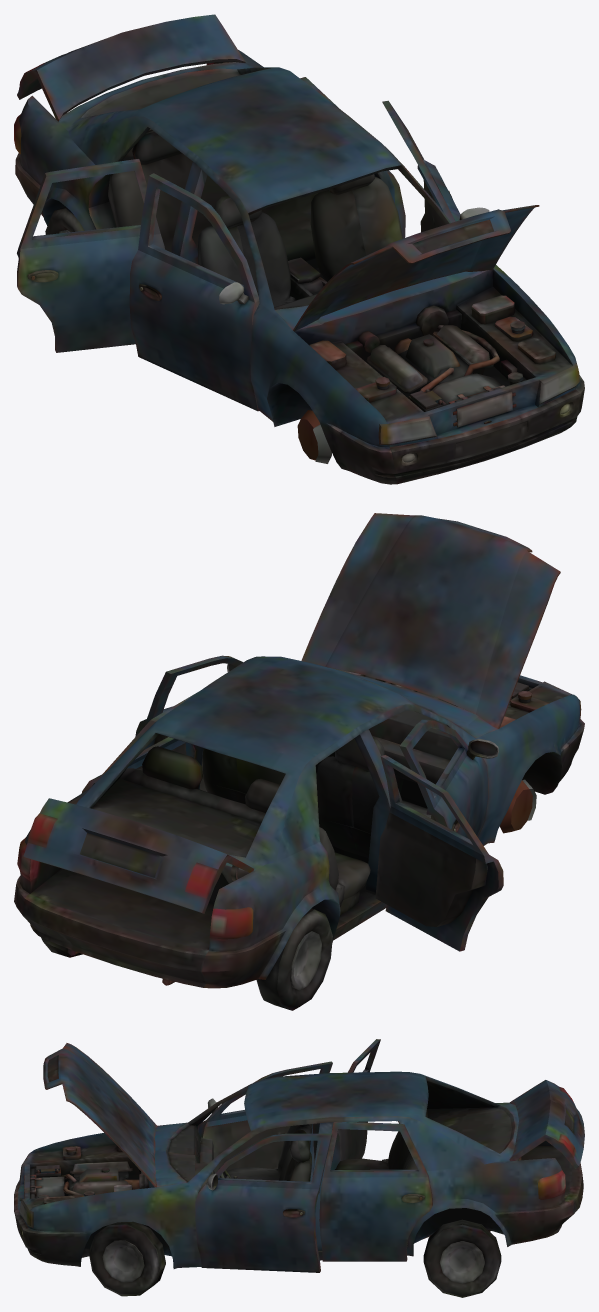
The model's file is car_sedan.glb.
3 views of the same model, one above another, from view 1: azimuth 30°, elevation 25°; view 2: azimuth 150°, elevation 25°; view 3: azimuth 270°, elevation 25° (orthographic). The views are drawn at different scales.
Visible parts, largest first — view 1: KUZA_0, Seats.001_6, ON QAPI_2, ARXA QAPI_3, Engine.001_8, BAQAJ_4, KAPOT_1, ON QAPI.001_12, SALON_5, TEKER.002_15, TEKER.003_11; view 2: KUZA_0, KAPOT_1, Seats.001_6, ARXA QAPI_3, BAQAJ_4, ON QAPI_2, TEKER.003_11, SALON_5, ON QAPI.001_12, TEKER.002_15, ARXA QAPI.001_13, Engine.001_8; view 3: KUZA_0, ON QAPI.001_12, ARXA QAPI.001_13, KAPOT_1, TEKER.001_14, TEKER.004_10, BAQAJ_4, ON QAPI_2, Engine.001_8, Seats.001_6, SALON_5, ARXA QAPI_3.
Boxes of the visible parts, x1=… form: KUZA_0: x1=14, y1=50, x2=584, y2=484; Seats.001_6: x1=108, y1=129, x2=402, y2=306; ON QAPI_2: x1=129, y1=173, x2=259, y2=411; ARXA QAPI_3: x1=17, y1=159, x2=165, y2=352; Engine.001_8: x1=309, y1=295, x2=555, y2=411; BAQAJ_4: x1=17, y1=14, x2=245, y2=121; KAPOT_1: x1=293, y1=205, x2=539, y2=331; ON QAPI.001_12: x1=382, y1=100, x2=489, y2=232; SALON_5: x1=274, y1=257, x2=326, y2=309; TEKER.002_15: x1=297, y1=410, x2=331, y2=463; TEKER.003_11: x1=45, y1=207, x2=84, y2=234; KUZA_0: x1=14, y1=656, x2=584, y2=988; KAPOT_1: x1=301, y1=513, x2=560, y2=728; Seats.001_6: x1=120, y1=737, x2=431, y2=915; ARXA QAPI_3: x1=375, y1=755, x2=503, y2=951; BAQAJ_4: x1=23, y1=798, x2=253, y2=913; ON QAPI_2: x1=399, y1=719, x2=498, y2=838; TEKER.003_11: x1=256, y1=908, x2=332, y2=1010; SALON_5: x1=319, y1=710, x2=458, y2=826; ON QAPI.001_12: x1=135, y1=655, x2=243, y2=791; TEKER.002_15: x1=499, y1=779, x2=536, y2=833; ARXA QAPI.001_13: x1=81, y1=692, x2=197, y2=793; Engine.001_8: x1=332, y1=668, x2=549, y2=727; KUZA_0: x1=14, y1=1071, x2=583, y2=1268; ON QAPI.001_12: x1=195, y1=1133, x2=332, y2=1272; ARXA QAPI.001_13: x1=319, y1=1122, x2=432, y2=1261; KAPOT_1: x1=43, y1=1043, x2=157, y2=1187; TEKER.001_14: x1=423, y1=1219, x2=501, y2=1297; TEKER.004_10: x1=88, y1=1221, x2=165, y2=1296; BAQAJ_4: x1=509, y1=1080, x2=584, y2=1168; ON QAPI_2: x1=198, y1=1061, x2=332, y2=1181; Engine.001_8: x1=35, y1=1145, x2=148, y2=1204; Seats.001_6: x1=223, y1=1109, x2=428, y2=1181; SALON_5: x1=168, y1=1124, x2=237, y2=1192; ARXA QAPI_3: x1=330, y1=1039, x2=380, y2=1169.
Bounding box in the file's own units: 12.73 × 7.76 × 21.34.
1 material, 1 textured.
